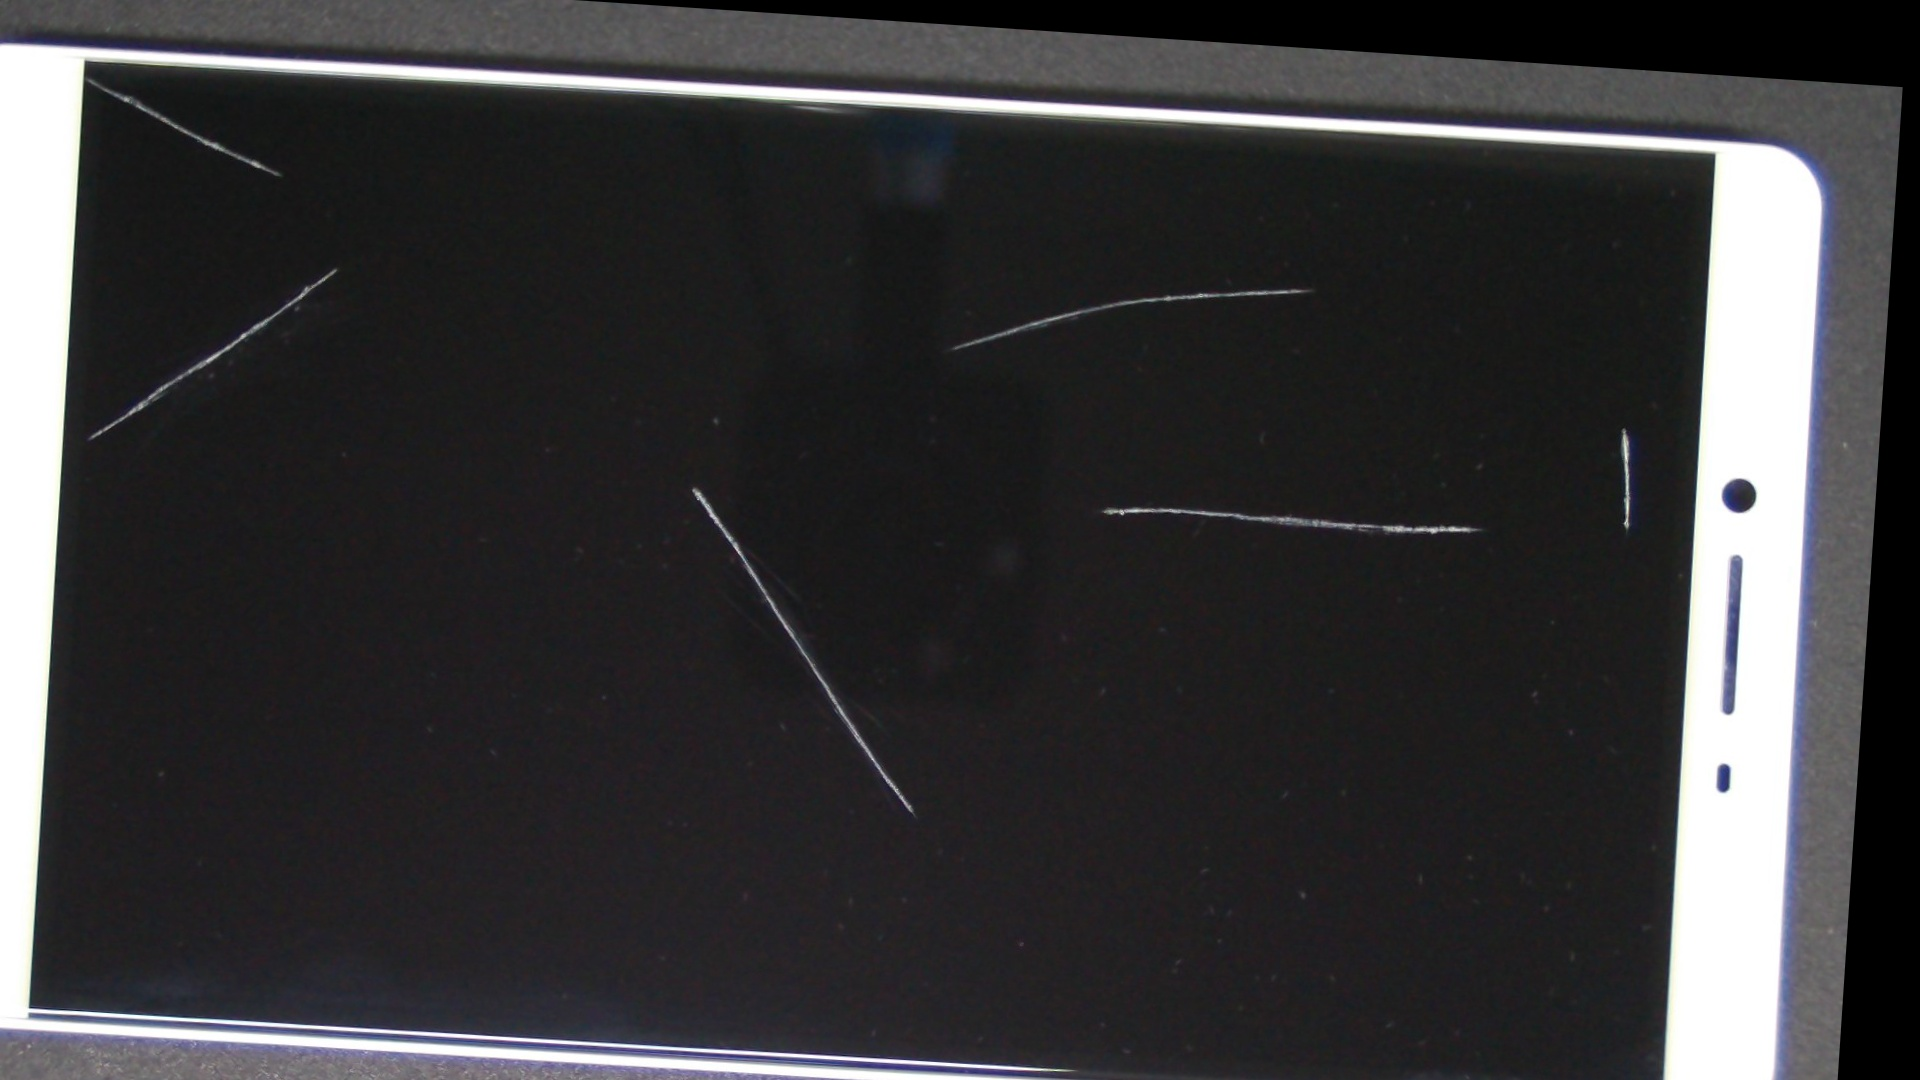oil: (653, 240, 1887, 783), (746, 191, 1891, 622), (273, 222, 1109, 750), (596, 121, 1895, 444), (108, 111, 562, 422), (0, 17, 178, 137)
